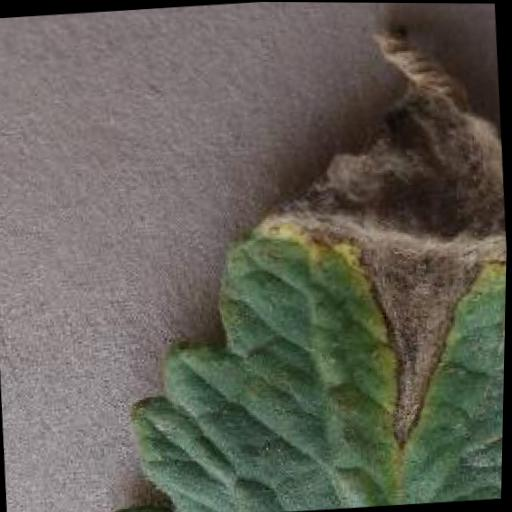Early Blight: (71, 8, 512, 512)
